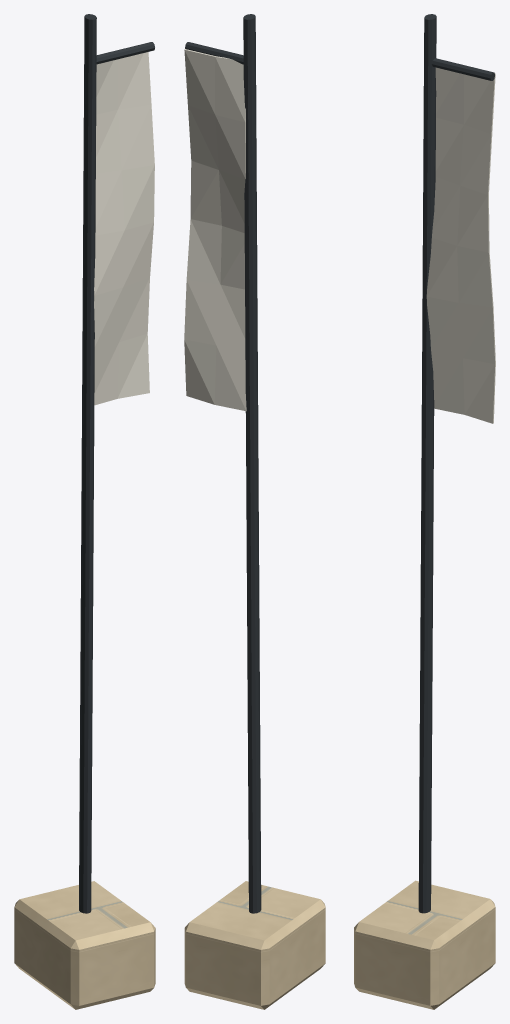
Rendered from Furn_BannerPole.fbx.
The picture shows the model from 3 angles, left to right: view 1: azimuth 30°, elevation 25°; view 2: azimuth 150°, elevation 25°; view 3: azimuth 330°, elevation 25°; orthographic projection.
Visible parts, largest first — view 1: Furn_BannerPole_Mesh; view 2: Furn_BannerPole_Mesh; view 3: Furn_BannerPole_Mesh.
Part boxes in pixels (x1=…): Furn_BannerPole_Mesh: x1=14, y1=14, x2=155, y2=1009; Furn_BannerPole_Mesh: x1=184, y1=14, x2=325, y2=1009; Furn_BannerPole_Mesh: x1=354, y1=14, x2=495, y2=1009.
Bounding box in the file's own units: 0.6 × 5 × 0.6.
3 materials, 1 textured.
